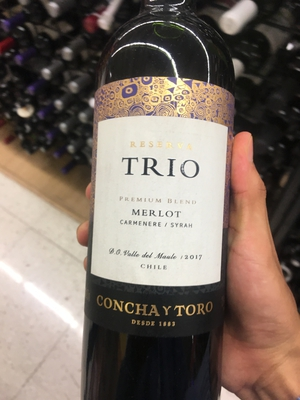trio merlot: (85, 6, 241, 378)
